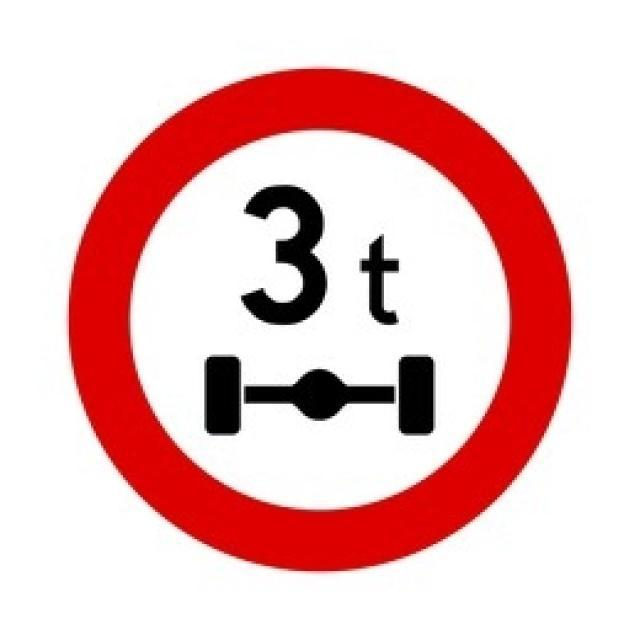axle load limit: (68, 69, 572, 575)
